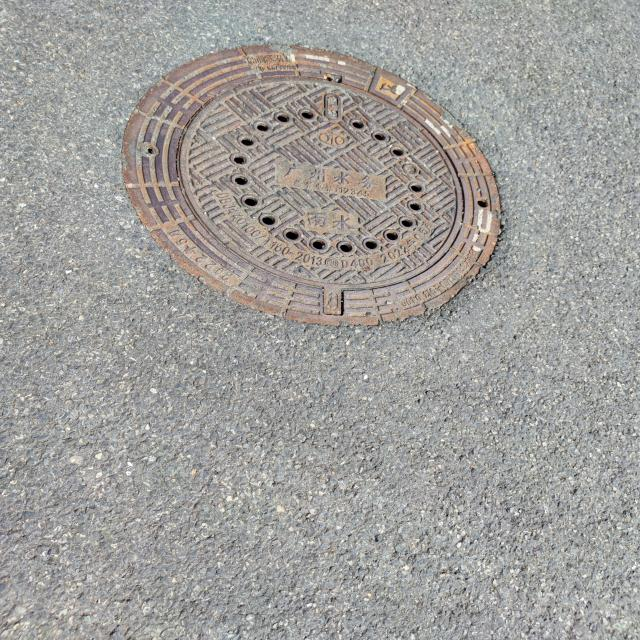Good: (121, 39, 514, 334)
